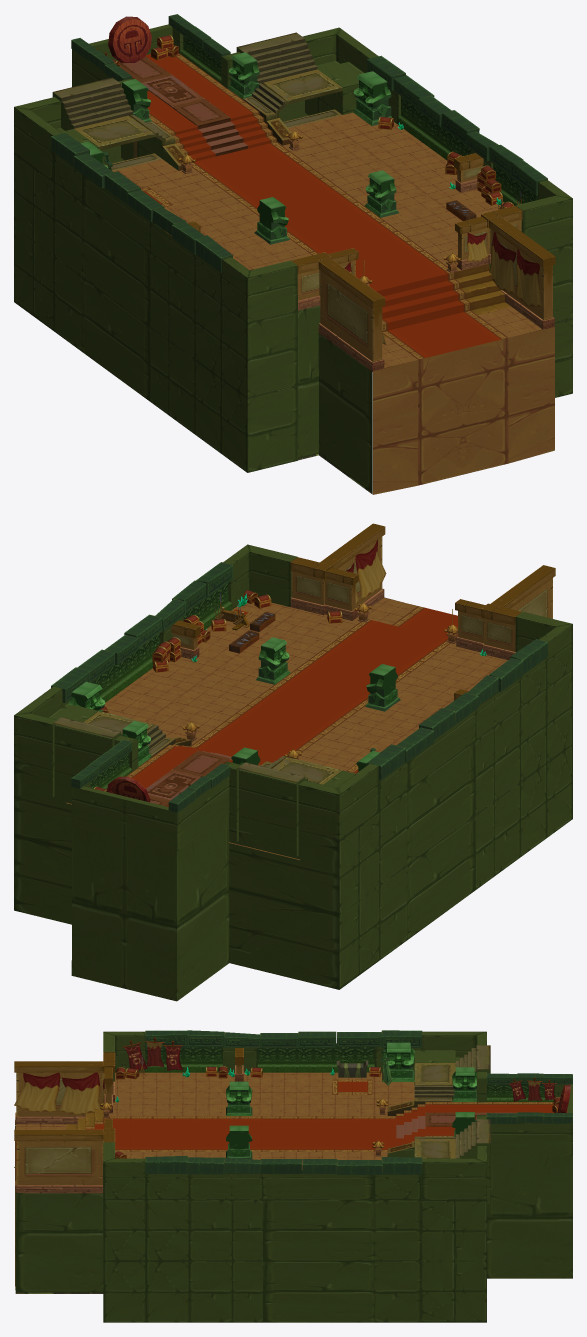
Rendered from DY_Kind01.FBX.
3 renders of one model, top to bottom at view 1: azimuth 30°, elevation 25°; view 2: azimuth 150°, elevation 25°; view 3: azimuth 270°, elevation 25°, orthographic. The views are drawn at different scales.
Visible parts, largest first — view 1: Object043; view 2: Object043; view 3: Object043.
Boxes of the visible parts, x1=… form: Object043: x1=14, y1=14, x2=572, y2=494; Object043: x1=14, y1=523, x2=572, y2=1001; Object043: x1=14, y1=1030, x2=572, y2=1322.
Bounding box in the file's own units: 2137 × 1295 × 3788.
